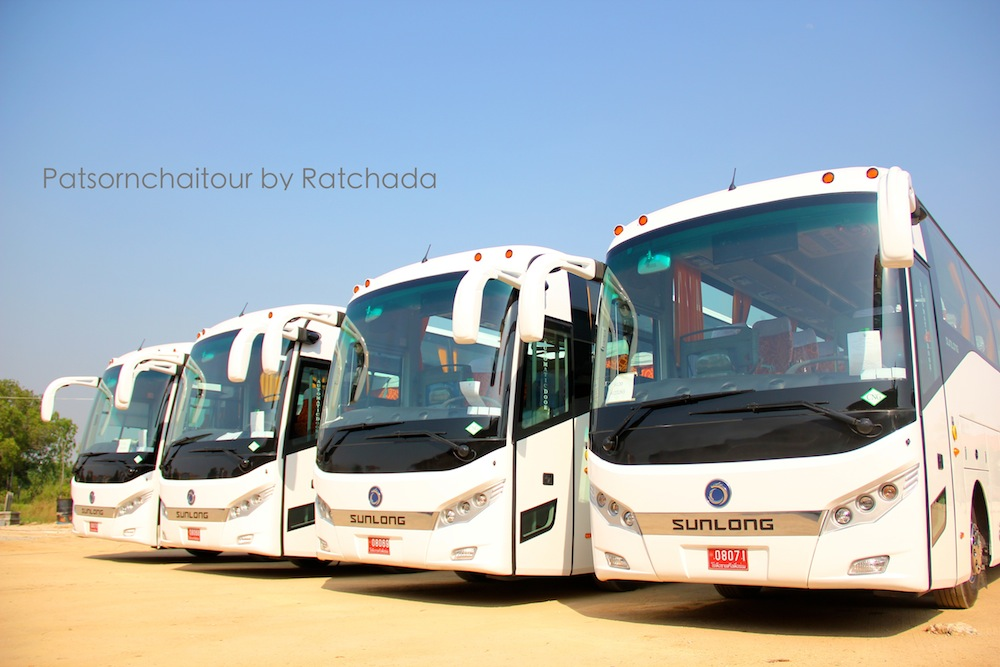bus: (586, 164, 999, 610), (311, 242, 582, 581), (161, 302, 308, 562), (67, 336, 159, 550)
